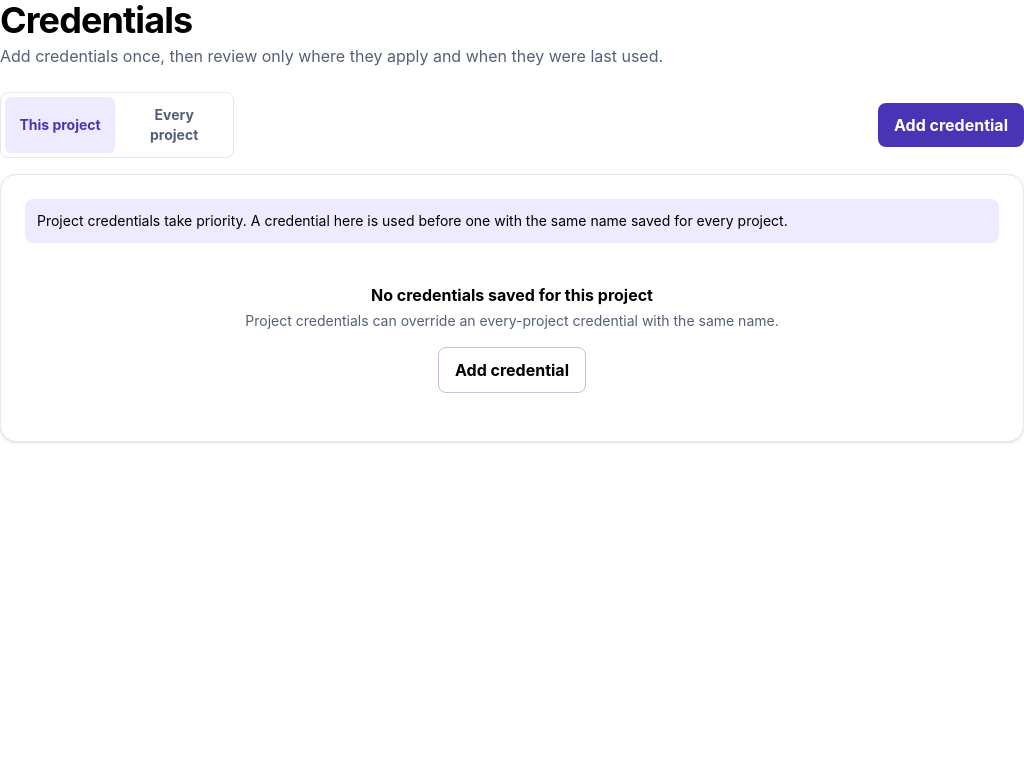
Test: adds a credential from the side panel without showing its value again
This screenshot has width=1024, height=768.
Expected: the text "No credentials saved for this project" is shown, [371,285,653,305]
Click the 1st button "Add credential" at (951, 125), box [878,103,1023,147]
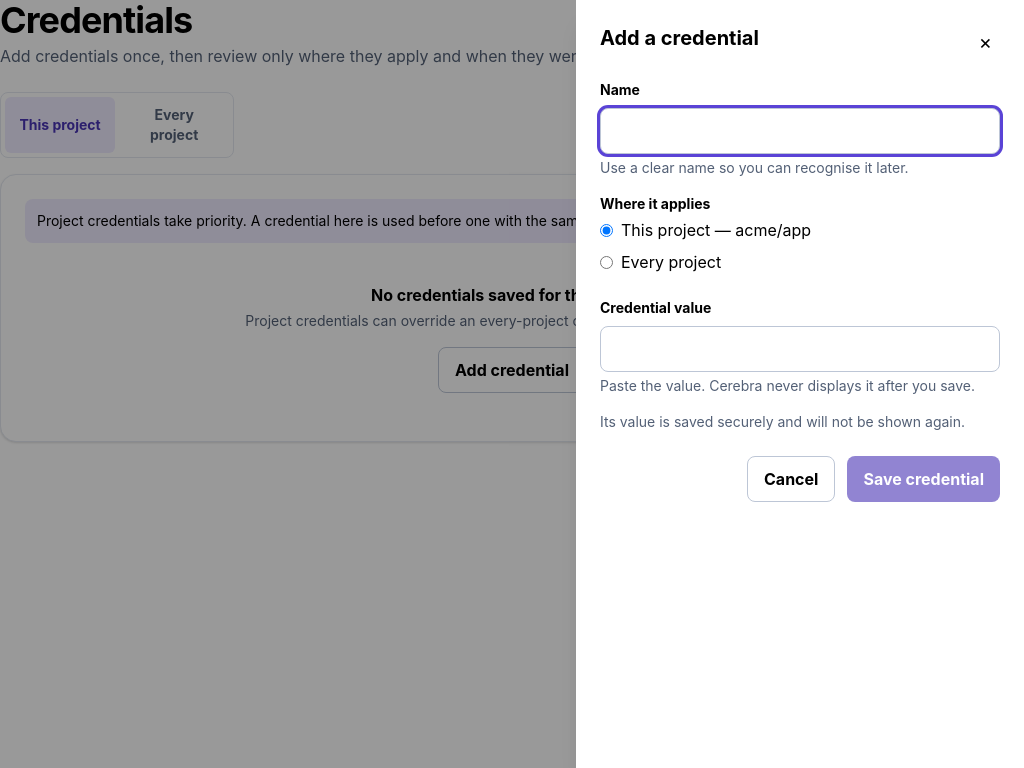
Expected: the text "Use a clear name so you can recognise it later." is shown, [600,159,909,176]
Expected: the text "Paste the value. Cerebra never displays it after you save." is shown, [600,376,1000,396]
Expected: the text "Its value is saved securely and will not be shown again." is shown, [600,412,1000,432]
Type "Deploy key" into the field labelled "Name" at (800, 131), box [600,108,1000,154]
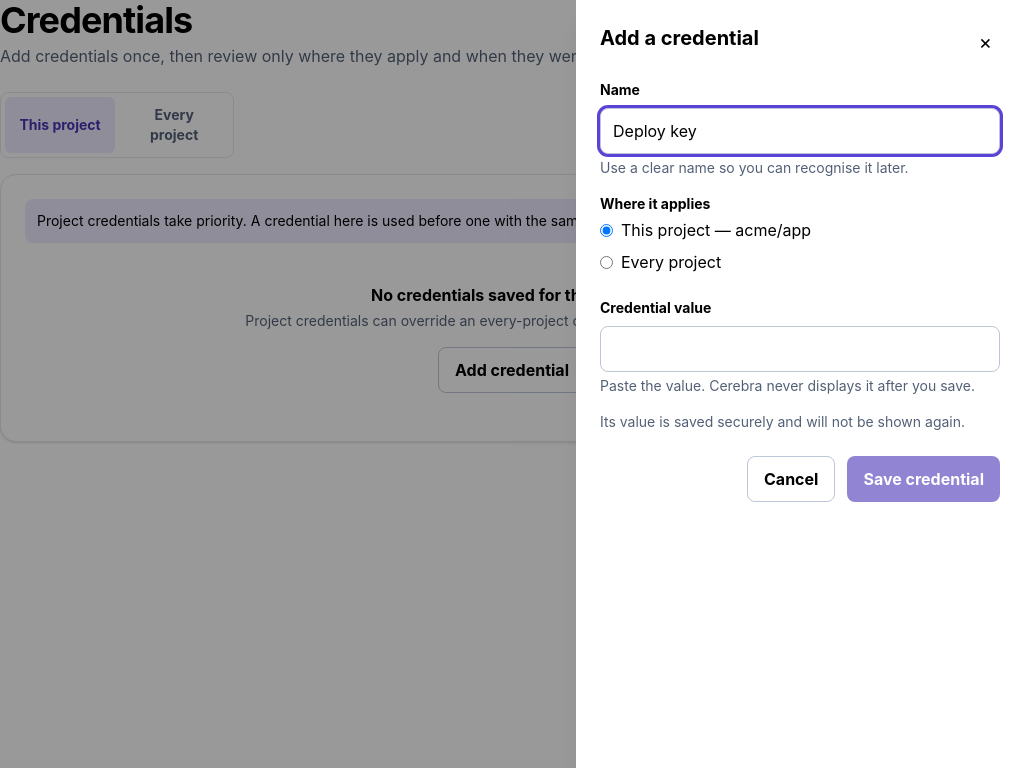
Type "secret-value" into the password field labelled "Credential value" at (800, 349), box [600,326,1000,372]
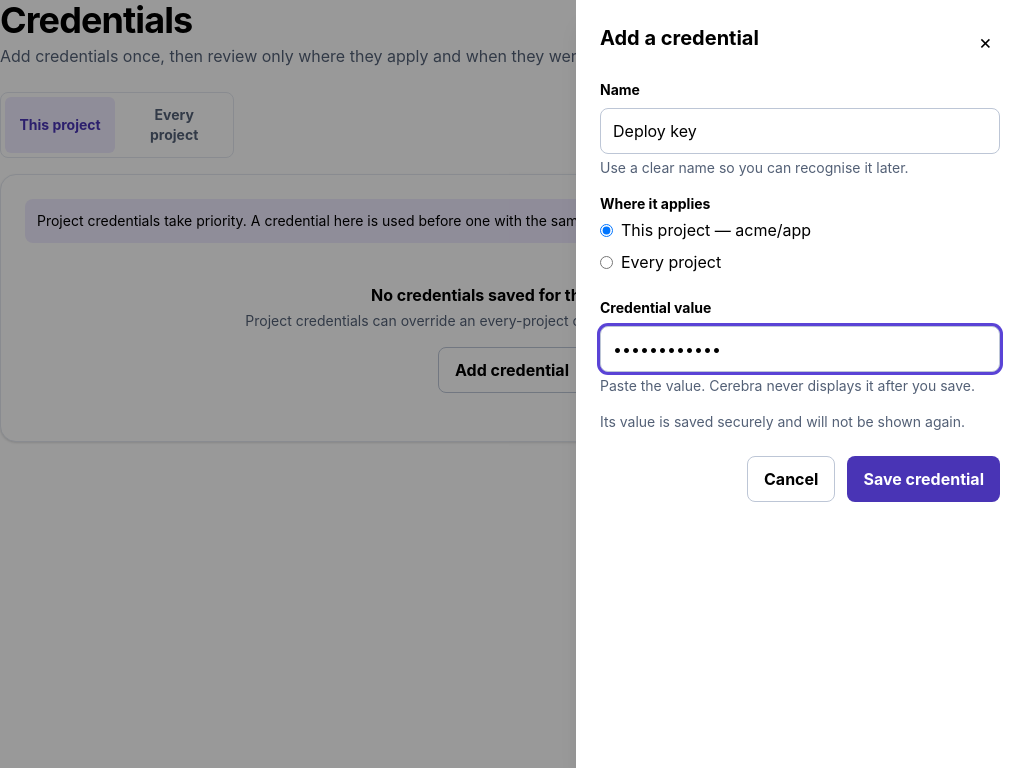
Click the button "Save credential" at (924, 479), box [847,456,1000,502]
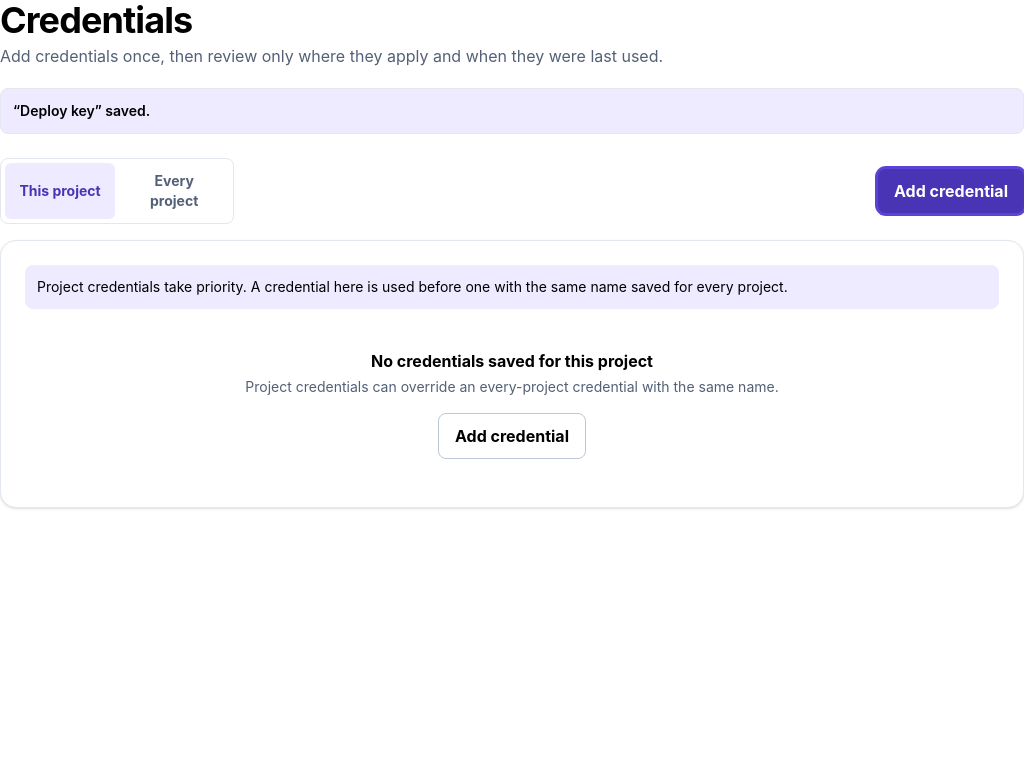
Expected: the dialog is gone
Expected: the message reads "“Deploy key” saved.", [13,102,150,119]
